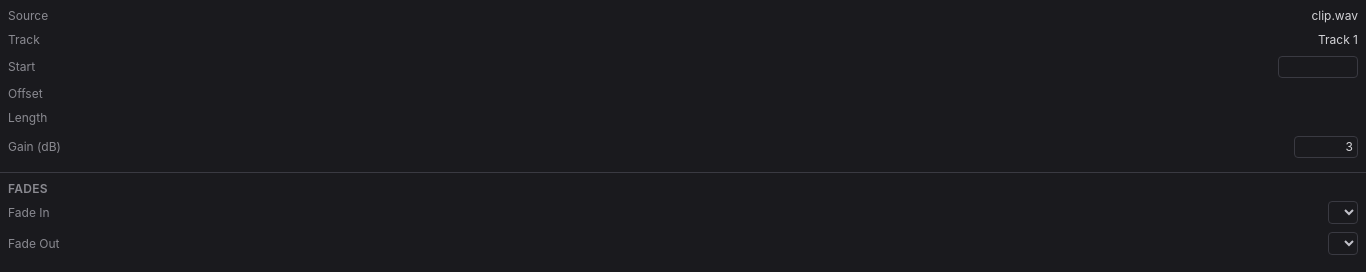
Test: PropertiesPanel (multitrack view) › reverts the draft to the current gain when blurred with garbage input
Clear the field labelled "Gain (dB)" at [1326, 147], box top-left (1294, 136), bottom-right (1358, 158)
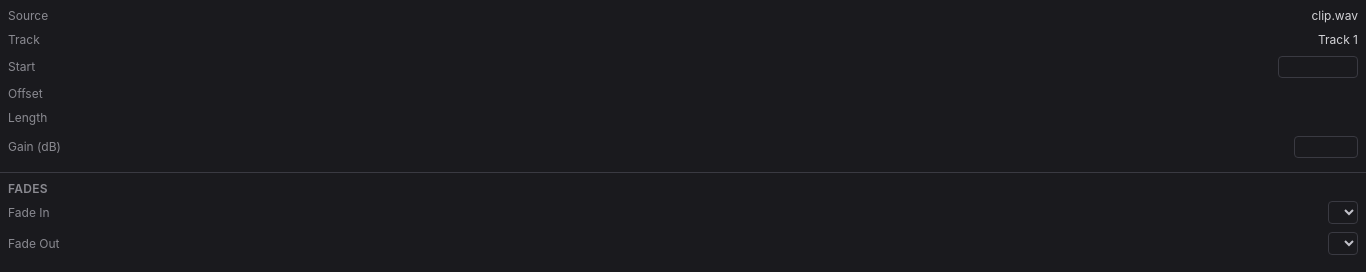
Leave the field labelled "Gain (dB)", box top-left (1294, 136), bottom-right (1358, 158)
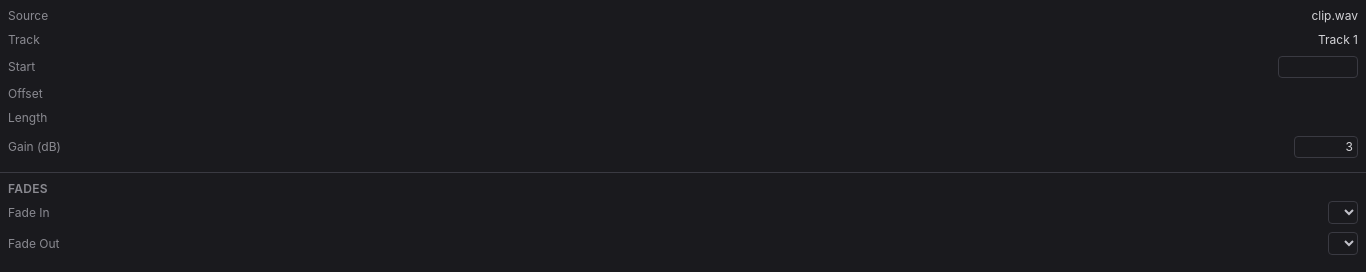
Result: the field labelled "Gain (dB)" holds "3" at top-left (1294, 136), bottom-right (1358, 158)
